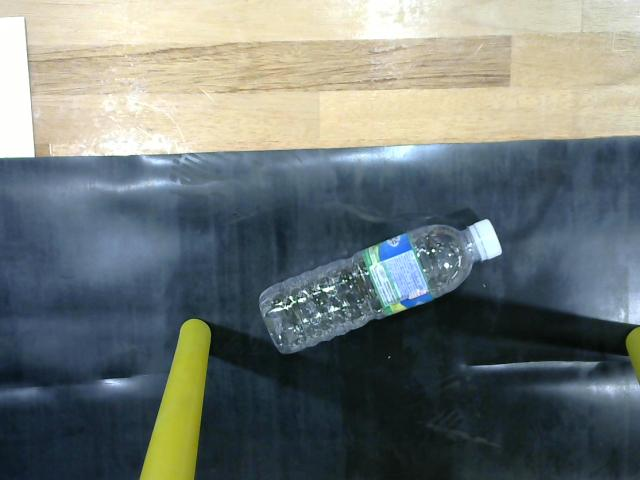bottle: (251, 211, 506, 361)
